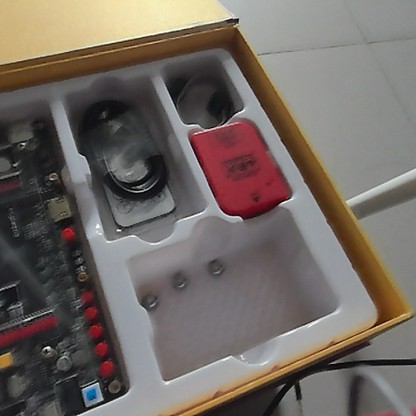ironball: (169, 271, 190, 293), (206, 258, 225, 278), (141, 290, 158, 309)
